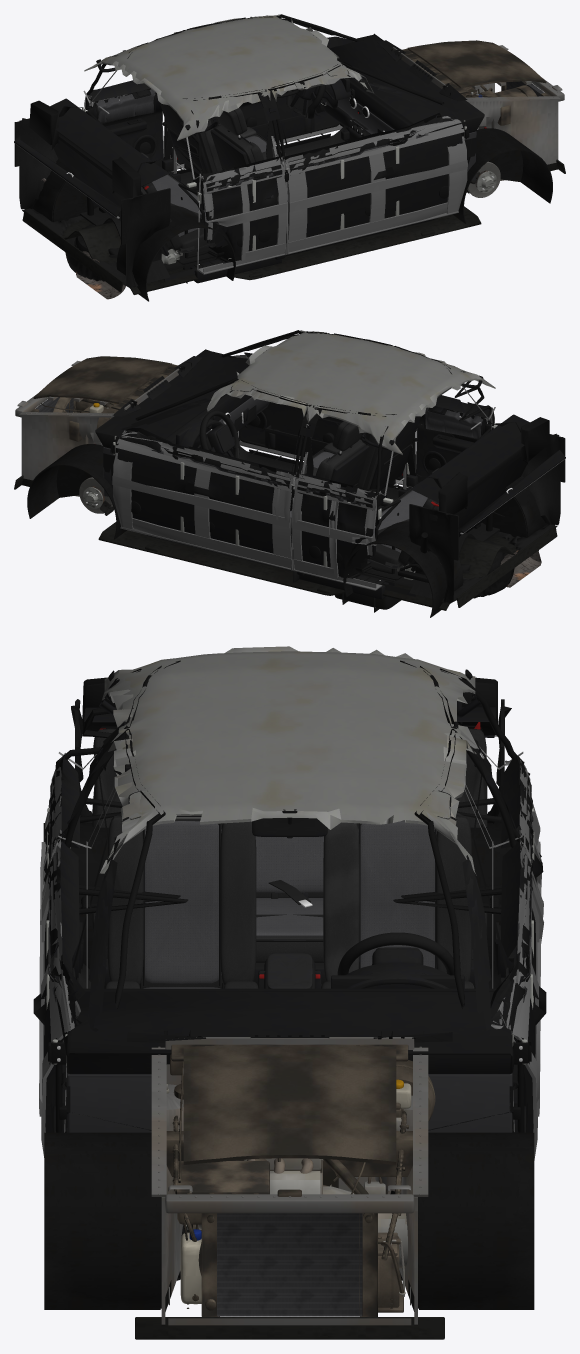
Rendered from hatch-redondo-5p_completo.glb.
3 renders of one model, top to bottom at view 1: azimuth 30°, elevation 25°; view 2: azimuth 150°, elevation 25°; view 3: azimuth 270°, elevation 25°, orthographic. The views are drawn at different scales.
Parts seen in each view (by area): view 1: interior_forro_teto, door_card_fr_chapa, door_card_fr, interior_painel, interior_portamalas_carpete, under_assoalho, door_card_rr_chapa, door_card_rr, hood_manta, interior_banco_traseiro, door_card_rl, engine_paralama_interno_dir (+23 smaller); view 2: interior_forro_teto, door_card_fl_chapa, door_card_fl, interior_painel, interior_portamalas_carpete, under_assoalho, door_card_rl_chapa, door_card_rl, hood_manta, interior_banco_traseiro, door_card_rr, engine_paralama_interno_esq (+25 smaller); view 3: interior_forro_teto, interior_painel, hood_manta, interior_banco_dianteiro_dir, under_caixa_roda_fr, under_caixa_roda_fl, engine_radiador, interior_banco_dianteiro_esq, interior_banco_traseiro, engine_travessa, engine_motor, interior_acabamento_colunas (+28 smaller).
Part boxes in pixels (<box>): interior_forro_teto: <box>84,14,374,140</box>; door_card_fr_chapa: <box>283,116,467,254</box>; door_card_fr: <box>285,113,462,237</box>; interior_painel: <box>318,33,484,180</box>; interior_portamalas_carpete: <box>14,118,170,287</box>; under_assoalho: <box>62,206,481,294</box>; door_card_rr_chapa: <box>197,157,288,274</box>; door_card_rr: <box>199,156,282,263</box>; hood_manta: <box>407,40,546,89</box>; interior_banco_traseiro: <box>53,132,216,264</box>; door_card_rl: <box>89,80,163,166</box>; engine_paralama_interno_dir: <box>465,91,560,180</box>; interior_forro_teto: <box>207,330,495,454</box>; door_card_fl_chapa: <box>112,430,295,570</box>; door_card_fl: <box>117,428,294,553</box>; interior_painel: <box>95,349,269,496</box>; interior_portamalas_carpete: <box>398,433,565,602</box>; under_assoalho: <box>98,522,556,610</box>; door_card_rl_chapa: <box>291,473,382,590</box>; door_card_rl: <box>297,474,380,577</box>; hood_manta: <box>33,356,172,405</box>; interior_banco_traseiro: <box>363,448,528,580</box>; door_card_rr: <box>416,395,490,482</box>; engine_paralama_interno_esq: <box>19,407,114,496</box>; interior_forro_teto: <box>99,646,481,875</box>; interior_painel: <box>56,962,519,1132</box>; hood_manta: <box>183,1045,396,1165</box>; interior_banco_dianteiro_dir: <box>105,813,265,988</box>; under_caixa_roda_fr: <box>44,1132,161,1309</box>; under_caixa_roda_fl: <box>418,1132,534,1309</box>; engine_radiador: <box>201,1213,377,1316</box>; interior_banco_dianteiro_esq: <box>314,812,474,988</box>; interior_banco_traseiro: <box>92,722,487,988</box>; engine_travessa: <box>165,1131,414,1325</box>; engine_motor: <box>176,1158,407,1268</box>; interior_acabamento_colunas: <box>67,721,523,1031</box>.
Size of what is drawn, in the model's own units: 3.56 by 1.48 by 1.69.
Materials: 55 (55 with a texture image).
